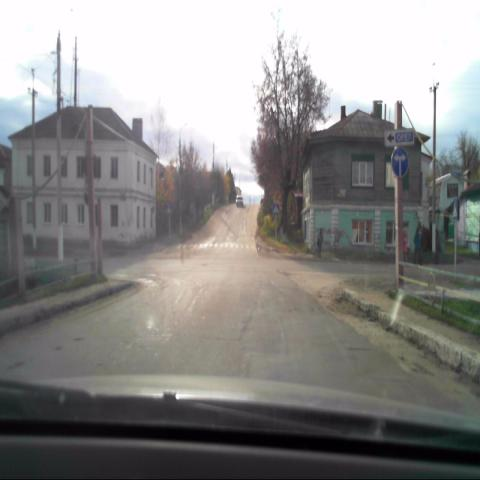4_1_6: (391, 148, 409, 180)
